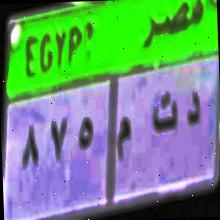5: (74, 112, 96, 156)
7: (47, 112, 68, 166)
8: (20, 122, 40, 170)
daal: (184, 89, 202, 129)
meem: (113, 115, 132, 166)
taa: (148, 91, 178, 137)
